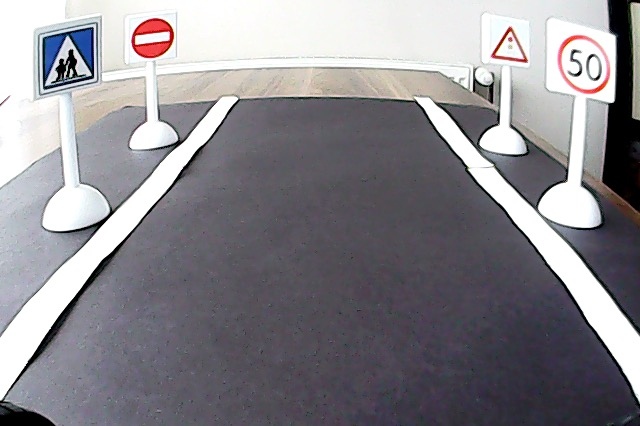do not enter: (128, 16, 176, 60)
red light: (487, 21, 531, 67)
school crossing: (34, 21, 103, 98)
speed limit 50: (554, 30, 613, 96)
